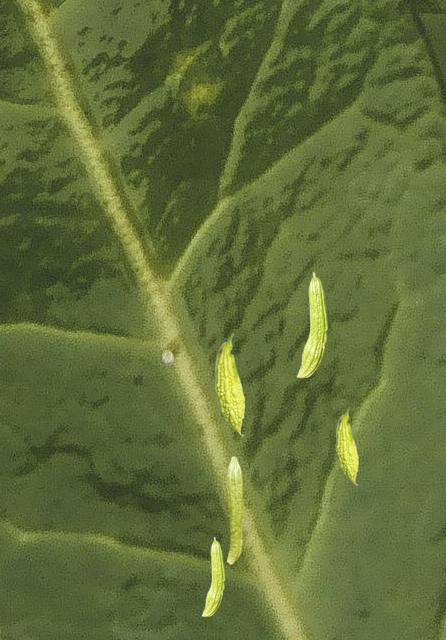ampalaya: (296, 271, 328, 378), (214, 333, 245, 437), (201, 536, 225, 617), (226, 456, 243, 564), (335, 407, 358, 486)
